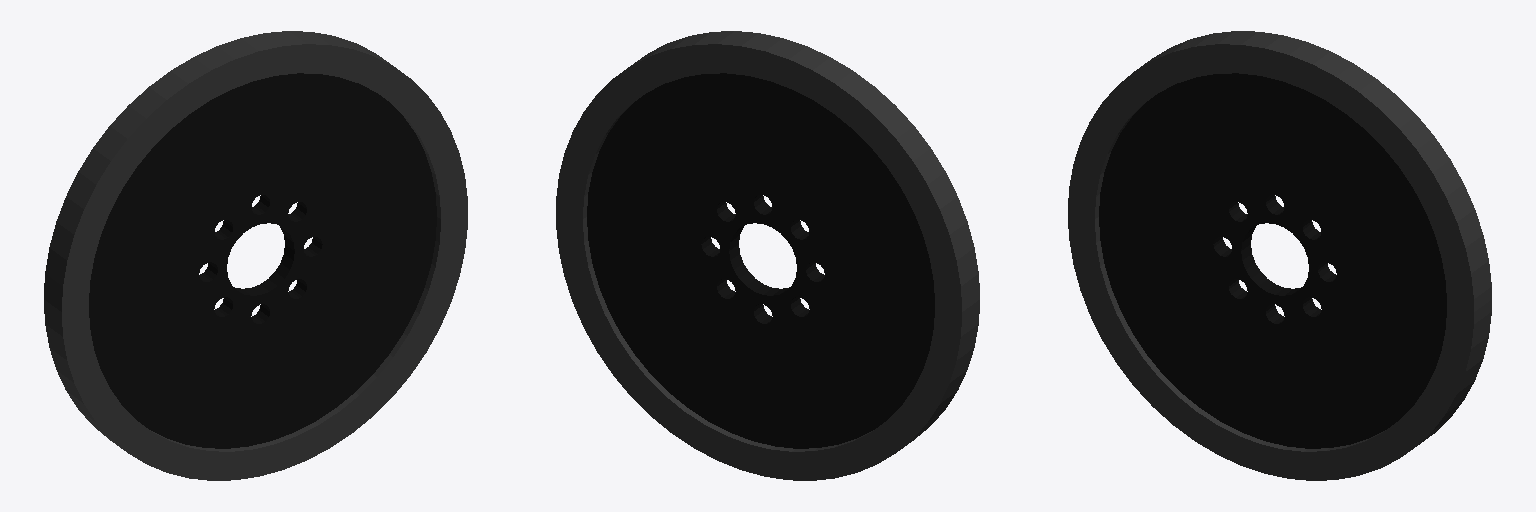
File: ROB-12201.obj
3 views of the same model, side by side, from view 1: azimuth 30°, elevation 25°; view 2: azimuth 150°, elevation 25°; view 3: azimuth 330°, elevation 25° (orthographic).
Parts seen in each view (by area): view 1: mesh 2 Boss-Extrude1, mesh 1 RO; view 2: mesh 2 Boss-Extrude1, mesh 1 RO; view 3: mesh 2 Boss-Extrude1, mesh 1 RO.
Part boxes in pixels (bbox=[...]): mesh 2 Boss-Extrude1: bbox=[89, 73, 436, 448]; mesh 1 RO: bbox=[44, 31, 467, 480]; mesh 2 Boss-Extrude1: bbox=[587, 73, 934, 448]; mesh 1 RO: bbox=[556, 31, 979, 480]; mesh 2 Boss-Extrude1: bbox=[1099, 73, 1446, 448]; mesh 1 RO: bbox=[1068, 31, 1491, 480].
Size of the model in its own units: 0.0762 by 0.0762 by 0.0058.